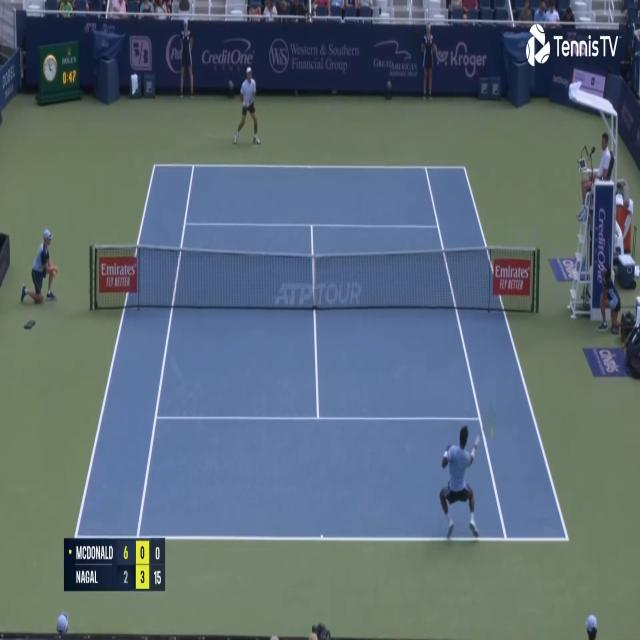tennis-player: (438, 421, 481, 543), (232, 64, 262, 146)
